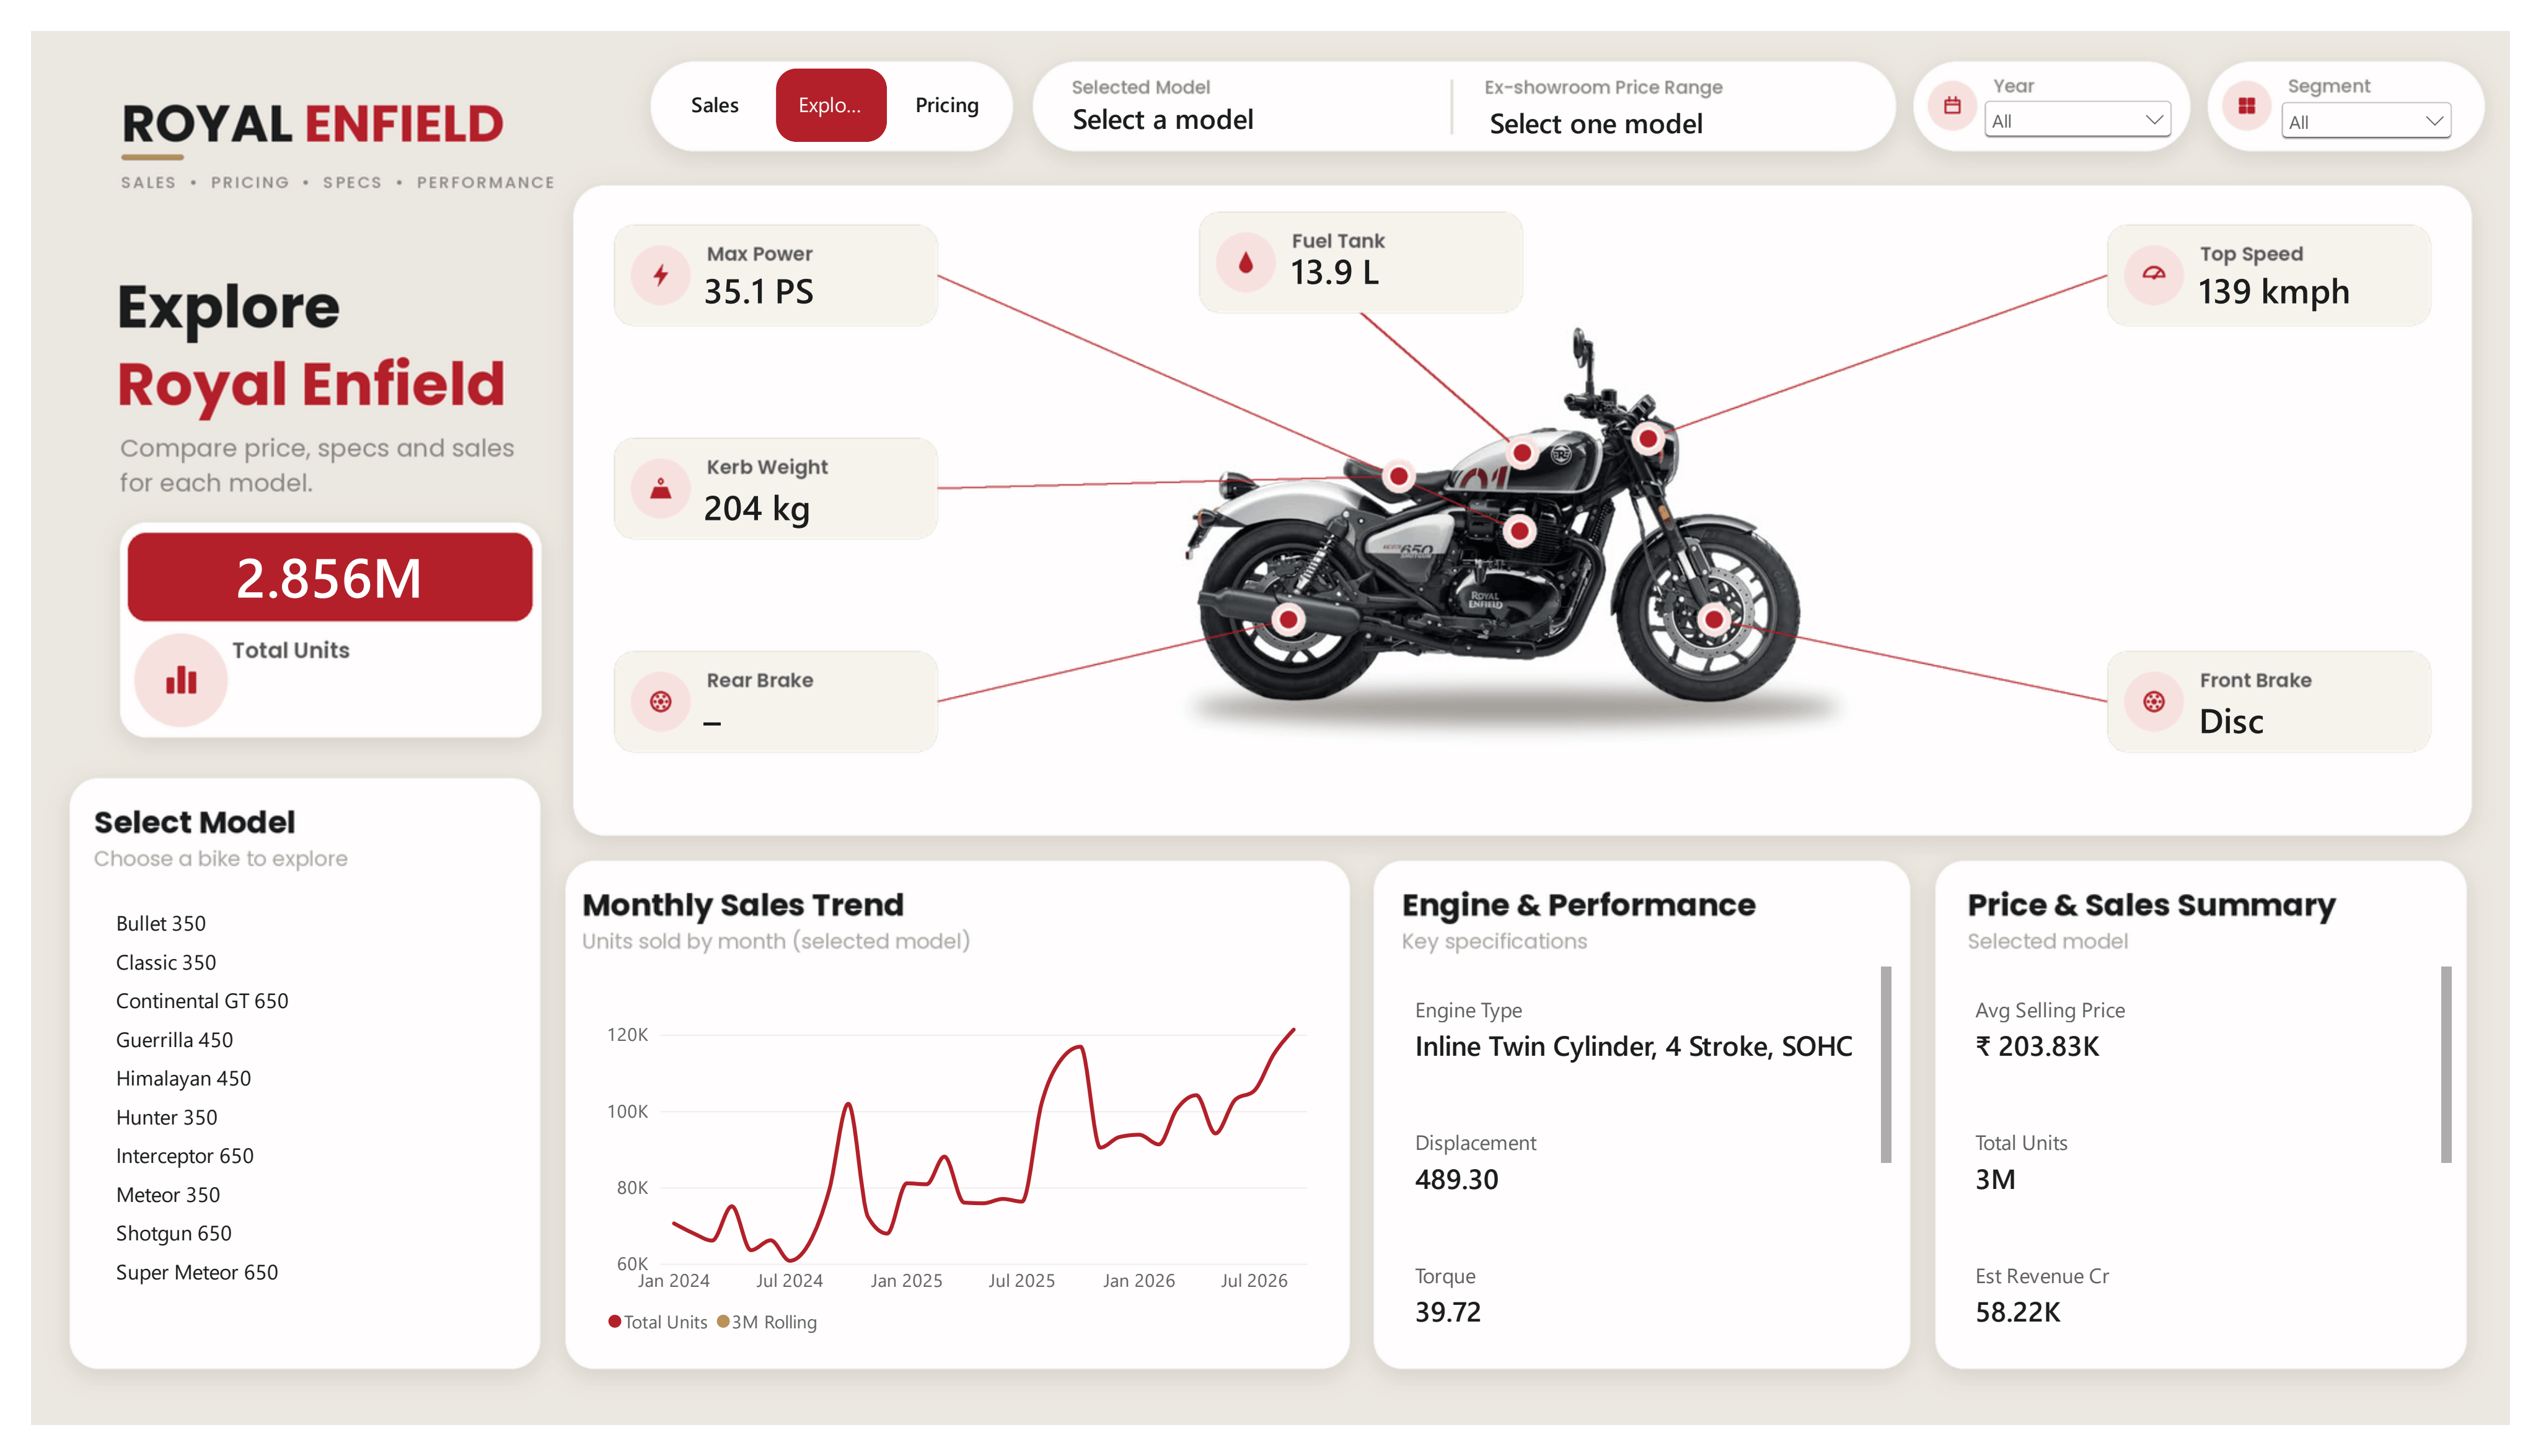

The dashboard page shown, as its layout file describes it:
{"tool":"powerbi","page":{"name":"Explorer","canvas":[1920,1080],"ordinal":1},"visuals":[{"type":"pageNavigator","box":[486.8,28.6,268,57],"z":0},{"type":"cardVisual","fields":{"Data":["Fact_Sales.Total Units"]},"box":[75.5,386.5,313,68],"z":2000},{"type":"listSlicer","fields":{"Values":["Dim_Bike.Model"]},"box":[49,662,326,365],"z":3000},{"type":"cardVisual","fields":{"Data":["Fact_Sales.Selected Model"]},"box":[791.4,49.7,280,34],"z":4000},{"type":"cardVisual","fields":{"Data":["Fact_Sales.Price Range"]},"box":[1113.5,53.4,280,34],"z":5000},{"type":"slicer","fields":{"Values":["Dim_Bike.Segment"]},"box":[1737.5,50,142.5,36.2],"z":6000},{"type":"image","box":[860,165,560,440],"z":7000},{"type":"image","box":[420,122,1470,503],"z":8000},{"type":"cardVisual","fields":{"Data":["Fact_Sales.Power Txt"]},"box":[505,180,170,38],"z":9000},{"type":"cardVisual","fields":{"Data":["Fact_Sales.Tank Txt"]},"box":[960,165,170,38],"z":10000},{"type":"cardVisual","fields":{"Data":["Fact_Sales.Speed Txt"]},"box":[1662.5,180,170,38],"z":11000},{"type":"cardVisual","fields":{"Data":["Fact_Sales.Weight Txt"]},"box":[505,347.5,170,38],"z":12000},{"type":"cardVisual","fields":{"Data":["Fact_Sales.Rear Brake Txt"]},"box":[505,512.5,170,38],"z":13000},{"type":"cardVisual","fields":{"Data":["Fact_Sales.Front Brake Txt"]},"box":[1662.5,512.5,170,38],"z":14000},{"type":"lineChart","fields":{"Category":["Fact_Sales.Month"],"Y":["Fact_Sales.Total Units","Fact_Sales.3M Rolling"]},"box":[430,725,580,305],"z":15000},{"type":"cardVisual","fields":{"Data":["Min(Dim_Bike.Engine Type)","Avg(Dim_Bike.Displacement)","Avg(Dim_Bike.Torque)","Avg(Dim_Bike.Mileage)","Avg(Dim_Bike.Gears)","Avg(Dim_Bike.Power to Weight)"]},"box":[1056,725,385,305],"z":16000},{"type":"cardVisual","fields":{"Data":["Fact_Sales.Avg Selling Price","Fact_Sales.Total Units","Fact_Sales.Est Revenue Cr","Fact_Sales.Model Rank","Min(Dim_Bike.ABS)","Min(Dim_Bike.Cooling)"]},"box":[1490,725,385,305],"z":17000},{"type":"slicer","fields":{"Values":["Dim_Date.Year"]},"box":[1508,49.3,154.6,42],"z":17001}]}

Visuals, with their boxes on the page's 1920x1080 design canvas (x1, y1, x2, y2). These are canvas units, not pixel positions in the 2541x1456 screenshot, which may show the page scaled, cropped or inside an application window:
pageNavigator: 487 29 755 86
cardVisual - Fact_Sales.Total Units: 76 386 388 454
listSlicer - Dim_Bike.Model: 49 662 375 1027
cardVisual - Fact_Sales.Selected Model: 791 50 1071 84
cardVisual - Fact_Sales.Price Range: 1114 53 1394 87
slicer - Dim_Bike.Segment: 1738 50 1880 86
image: 860 165 1420 605
image: 420 122 1890 625
cardVisual - Fact_Sales.Power Txt: 505 180 675 218
cardVisual - Fact_Sales.Tank Txt: 960 165 1130 203
cardVisual - Fact_Sales.Speed Txt: 1662 180 1832 218
cardVisual - Fact_Sales.Weight Txt: 505 348 675 386
cardVisual - Fact_Sales.Rear Brake Txt: 505 512 675 550
cardVisual - Fact_Sales.Front Brake Txt: 1662 512 1832 550
lineChart - Fact_Sales.Month x Fact_Sales.Total Units: 430 725 1010 1030
cardVisual - Min(Dim_Bike.Engine Type) x Avg(Dim_Bike.Displacement): 1056 725 1441 1030
cardVisual - Fact_Sales.Avg Selling Price x Fact_Sales.Total Units: 1490 725 1875 1030
slicer - Dim_Date.Year: 1508 49 1663 91
